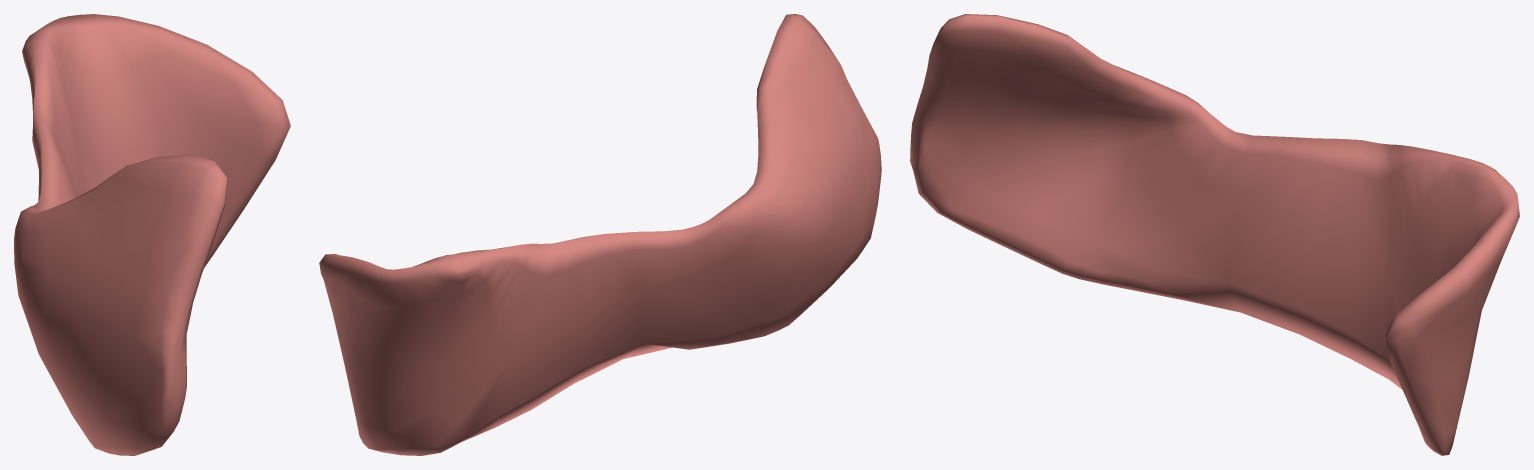
3 views of the same model, side by side, from view 1: azimuth 30°, elevation 25°; view 2: azimuth 150°, elevation 25°; view 3: azimuth 270°, elevation 25° (orthographic). The views are drawn at different scales.
Visible parts, largest first — view 1: ZA_dbb4d0e979d84ec2; view 2: ZA_dbb4d0e979d84ec2; view 3: ZA_dbb4d0e979d84ec2.
Part boxes in pixels (bbox=[...]): ZA_dbb4d0e979d84ec2: bbox=[14, 14, 290, 455]; ZA_dbb4d0e979d84ec2: bbox=[319, 14, 881, 455]; ZA_dbb4d0e979d84ec2: bbox=[910, 14, 1519, 455].
Size of the model in its own units: 0.00715 by 0.00617 by 0.01.
